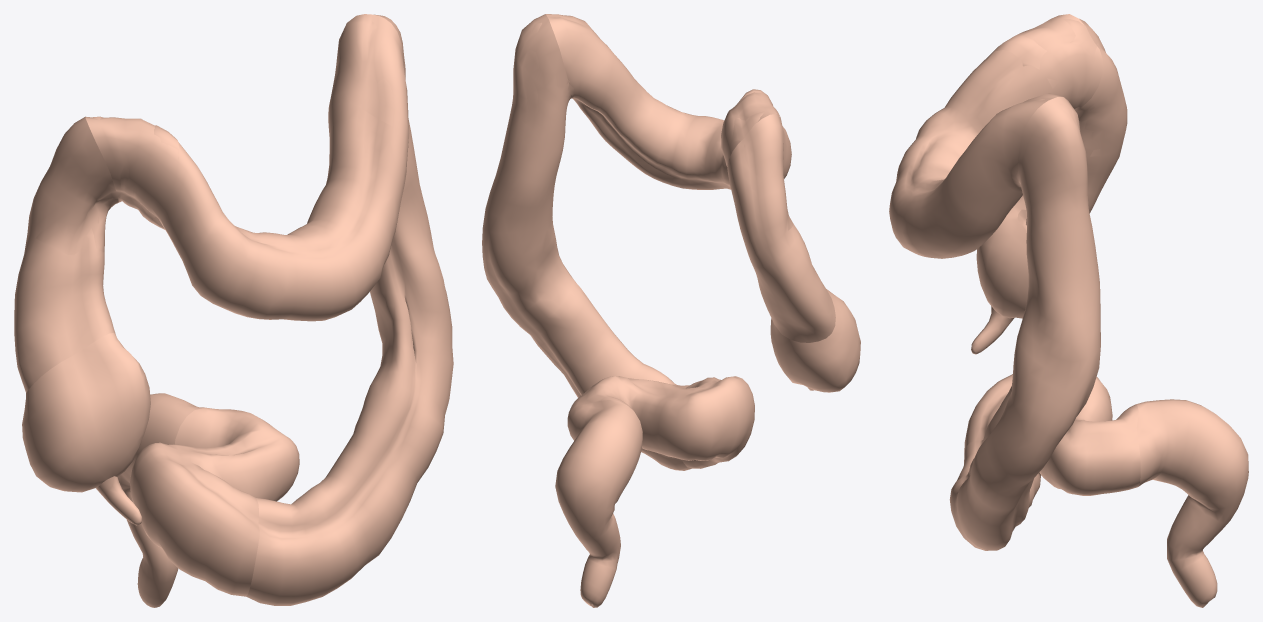
Rendered from gut-large.glb.
The picture shows the model from 3 angles, left to right: view 1: azimuth 30°, elevation 25°; view 2: azimuth 150°, elevation 25°; view 3: azimuth 270°, elevation 25°; orthographic projection. The views are drawn at different scales.
Parts seen in each view (by area): view 1: VH_F_hepatic_flexure_of_colon; view 2: VH_F_hepatic_flexure_of_colon; view 3: VH_F_hepatic_flexure_of_colon.
Part boxes in pixels (box(x1,y1,x2,y2)): VH_F_hepatic_flexure_of_colon: box(14, 14, 453, 607); VH_F_hepatic_flexure_of_colon: box(482, 14, 860, 607); VH_F_hepatic_flexure_of_colon: box(889, 14, 1248, 607).
Size of the model in its own units: 0.2116 by 0.2949 by 0.1688.
